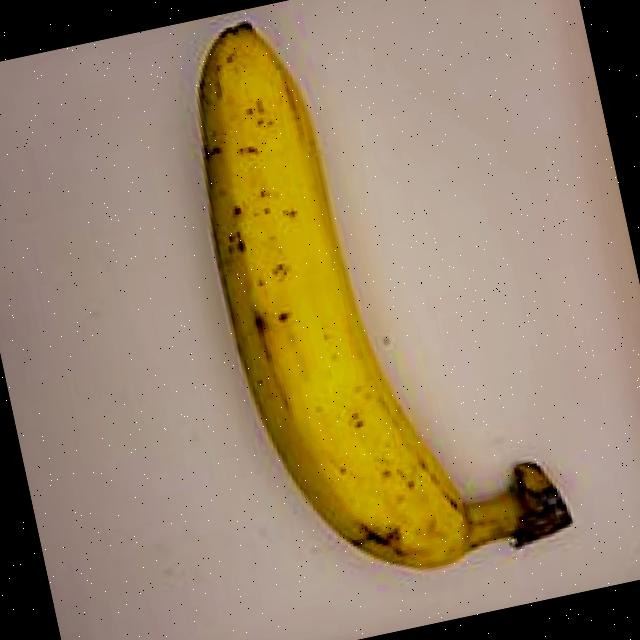Overripe: (118, 0, 610, 629)
